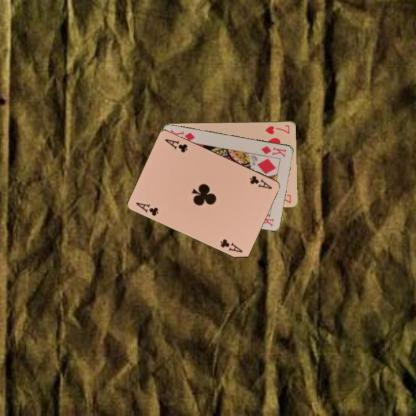7h: (263, 122, 291, 135)
Ac: (134, 200, 160, 218), (248, 173, 274, 190)
Kd: (259, 144, 287, 158)
